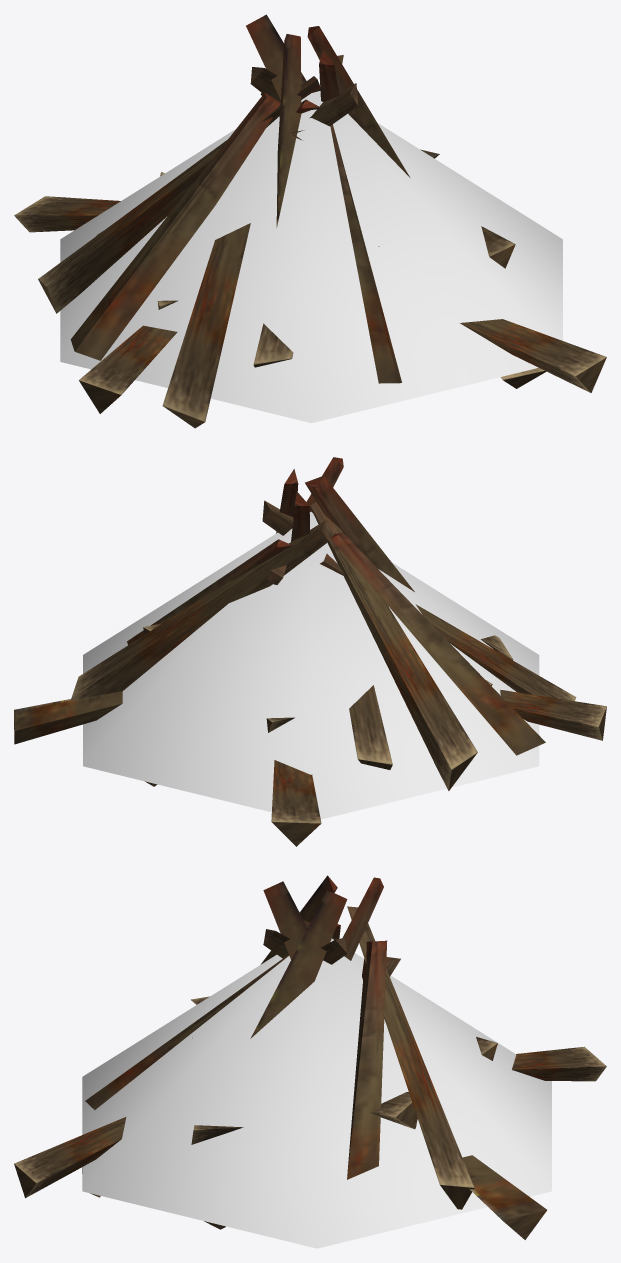
Rendered from YHJ_huodui.FBX.
The picture shows the model from 3 angles, top to bottom: view 1: azimuth 30°, elevation 25°; view 2: azimuth 150°, elevation 25°; view 3: azimuth 270°, elevation 25°; orthographic projection. The views are drawn at different scales.
Visible parts, largest first — view 1: YHJ_huodui-col, YHJ_huodui; view 2: YHJ_huodui-col, YHJ_huodui; view 3: YHJ_huodui-col, YHJ_huodui.
Part boxes in pixels (<box>): YHJ_huodui-col: <box>60,91,562,423</box>; YHJ_huodui: <box>14,14,606,428</box>; YHJ_huodui-col: <box>83,511,539,819</box>; YHJ_huodui: <box>14,457,606,846</box>; YHJ_huodui-col: <box>82,938,551,1248</box>; YHJ_huodui: <box>14,875,606,1239</box>.
Bounding box in the file's own units: 1.34 × 0.7138 × 1.4.
